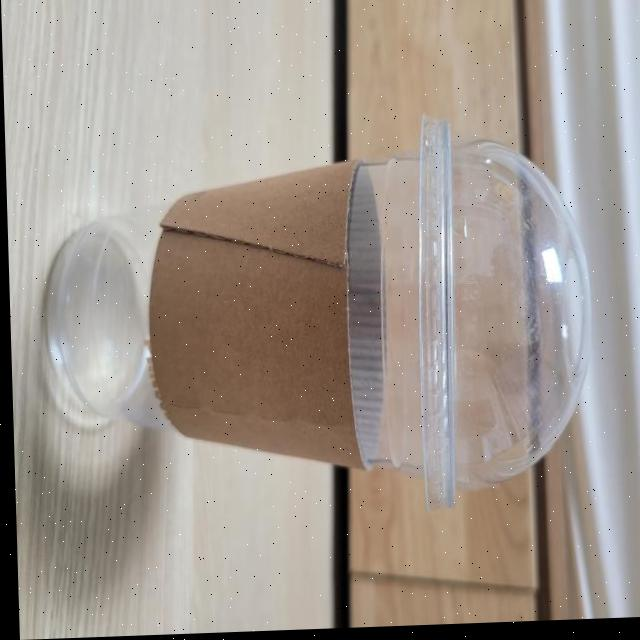cup: (3, 126, 629, 514)
